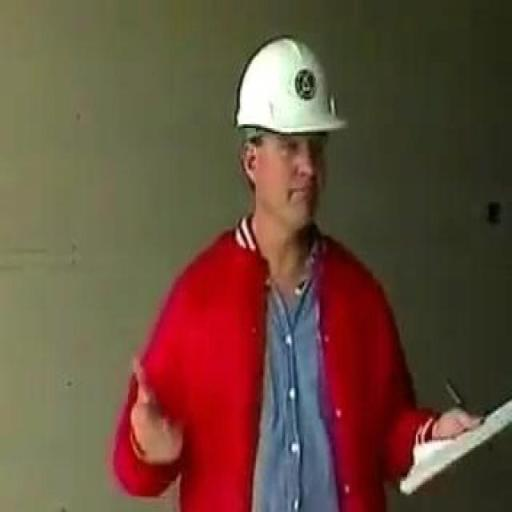helmet: (224, 28, 355, 154)
